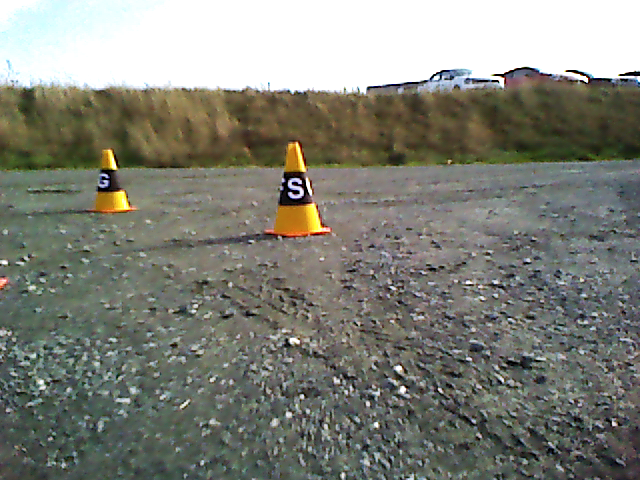yellowcone: (276, 142, 321, 231), (92, 149, 130, 209)
